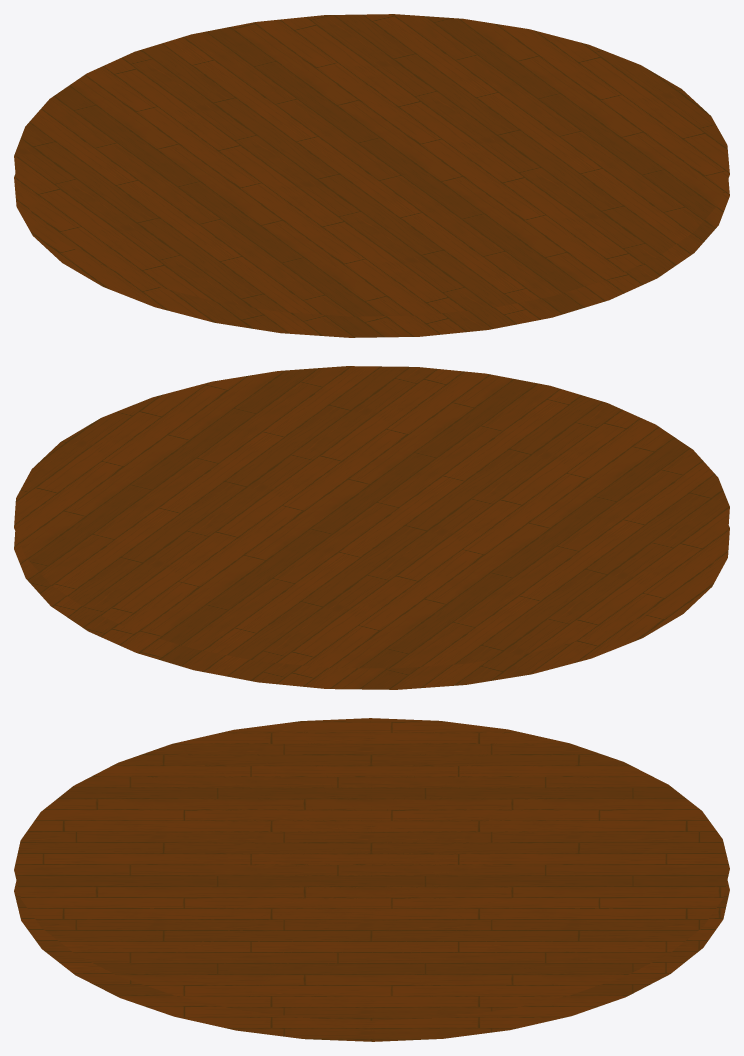
File: SM_FloorWood_02.FBX
3 renders of one model, top to bottom at view 1: azimuth 30°, elevation 25°; view 2: azimuth 150°, elevation 25°; view 3: azimuth 270°, elevation 25°, orthographic.
Parts seen in each view (by area): view 1: SM_FloorWood_02; view 2: SM_FloorWood_02; view 3: SM_FloorWood_02.
Part boxes in pixels (x1,y1,x2,y2): SM_FloorWood_02: [14, 14, 729, 337]; SM_FloorWood_02: [14, 366, 729, 689]; SM_FloorWood_02: [14, 718, 729, 1041].
Size of the model in its own units: 1230 by 1230 by 40.18.
